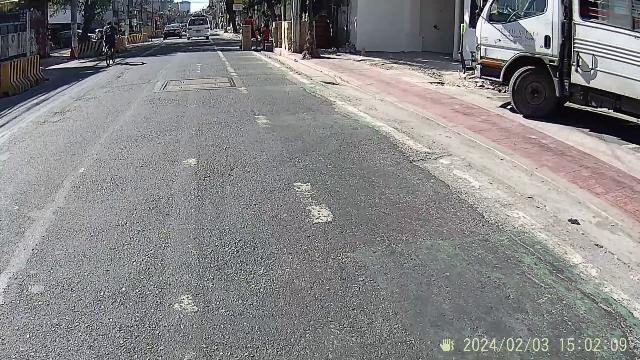construction_materials: (1, 55, 52, 96)
